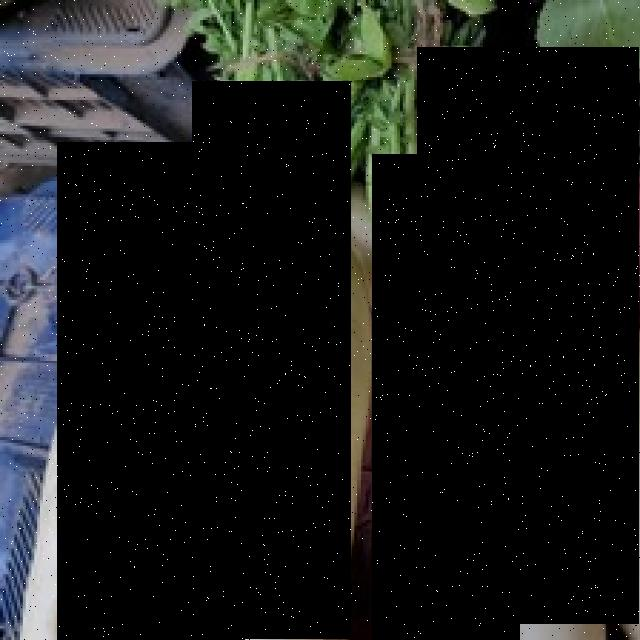Radish: (418, 48, 640, 625), (57, 142, 245, 640), (192, 82, 352, 640), (372, 154, 520, 640)
